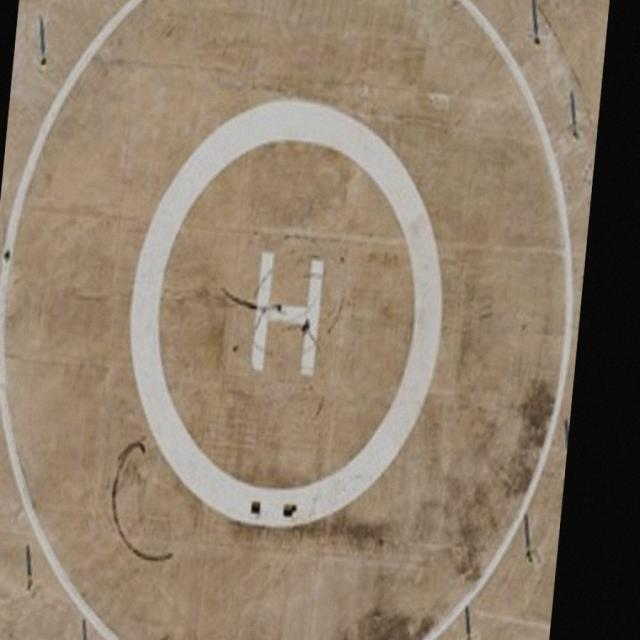helipad: (121, 90, 448, 532)
